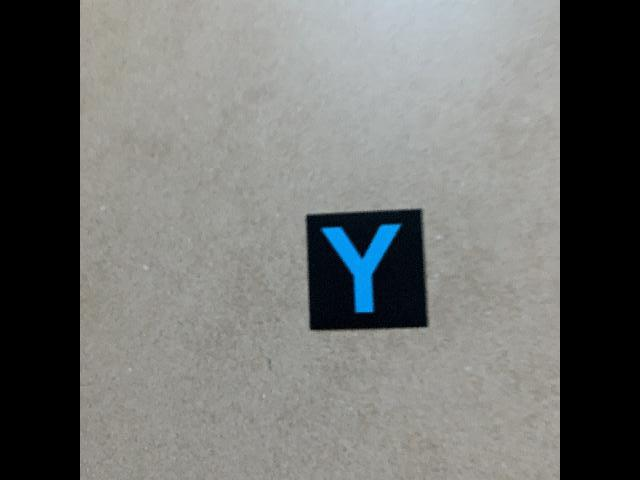alphabet_y: (304, 208, 430, 333)
